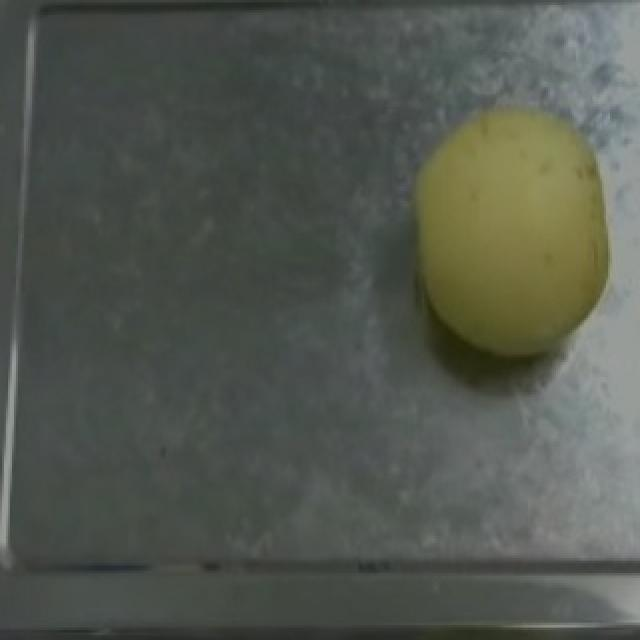Fruit: (388, 84, 640, 377)
